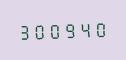four: (78, 19, 92, 38)
nine: (63, 20, 77, 39)
three: (17, 21, 31, 41)
zero: (48, 20, 62, 40), (93, 18, 107, 38), (32, 21, 46, 40)
